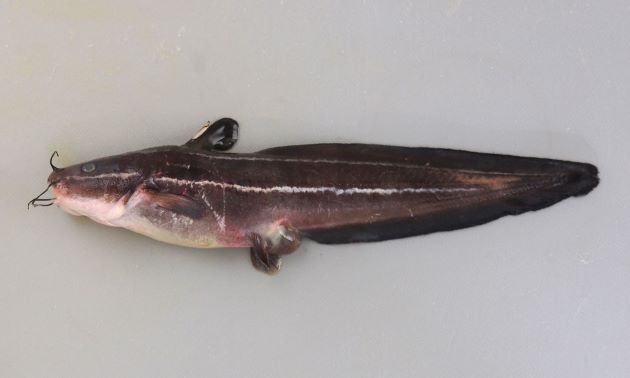gonzui: (39, 101, 607, 275)
